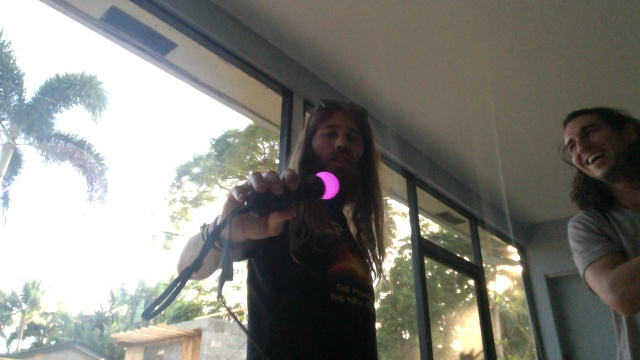wand: (315, 170, 339, 201)
